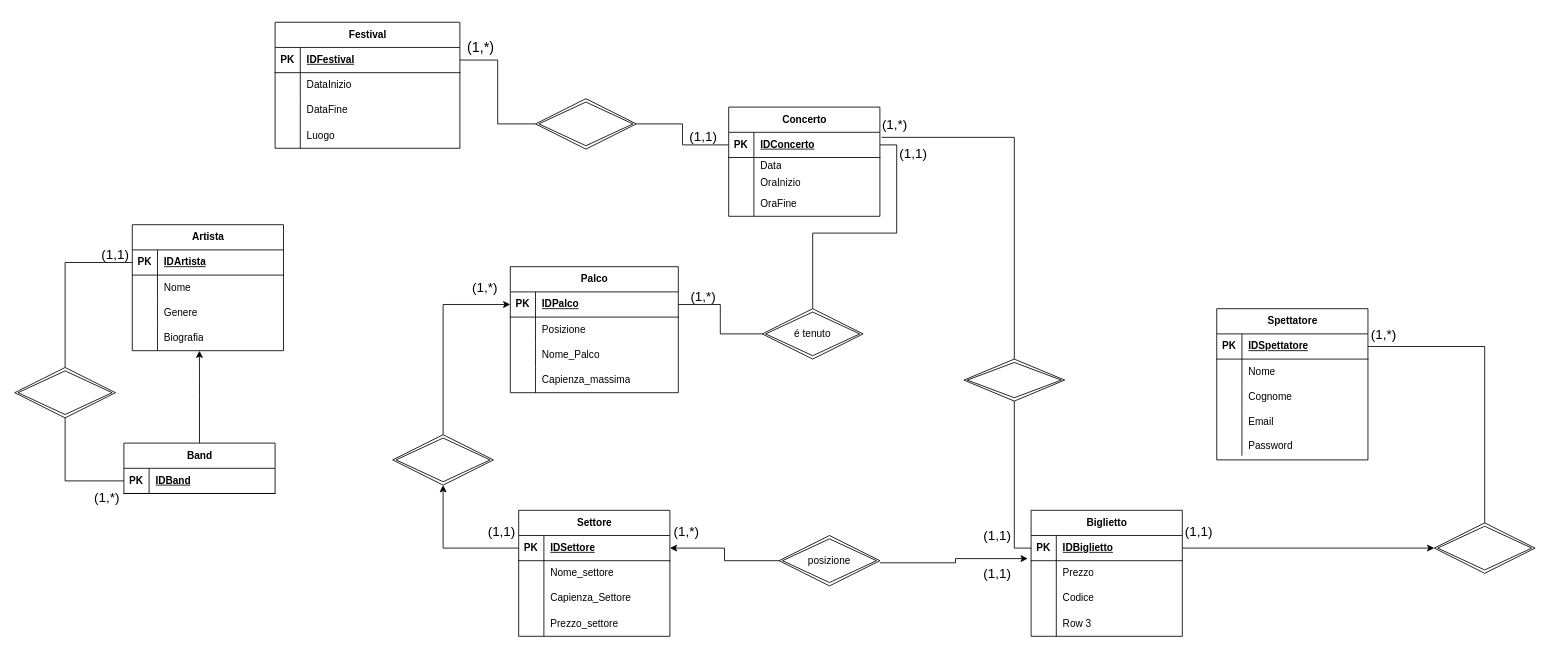
Some shapes in this 1550 by 651 pixel diagram are drawn without their labels. Here are the shapes that lost their labels. From the top down, the box of each, then its label:
(535, 98, 636, 149): Ha Palinsesto
(14, 367, 116, 418): è composta
(963, 358, 1065, 401): accesso
(392, 434, 494, 485): è composto
(1433, 522, 1535, 573): acquista
